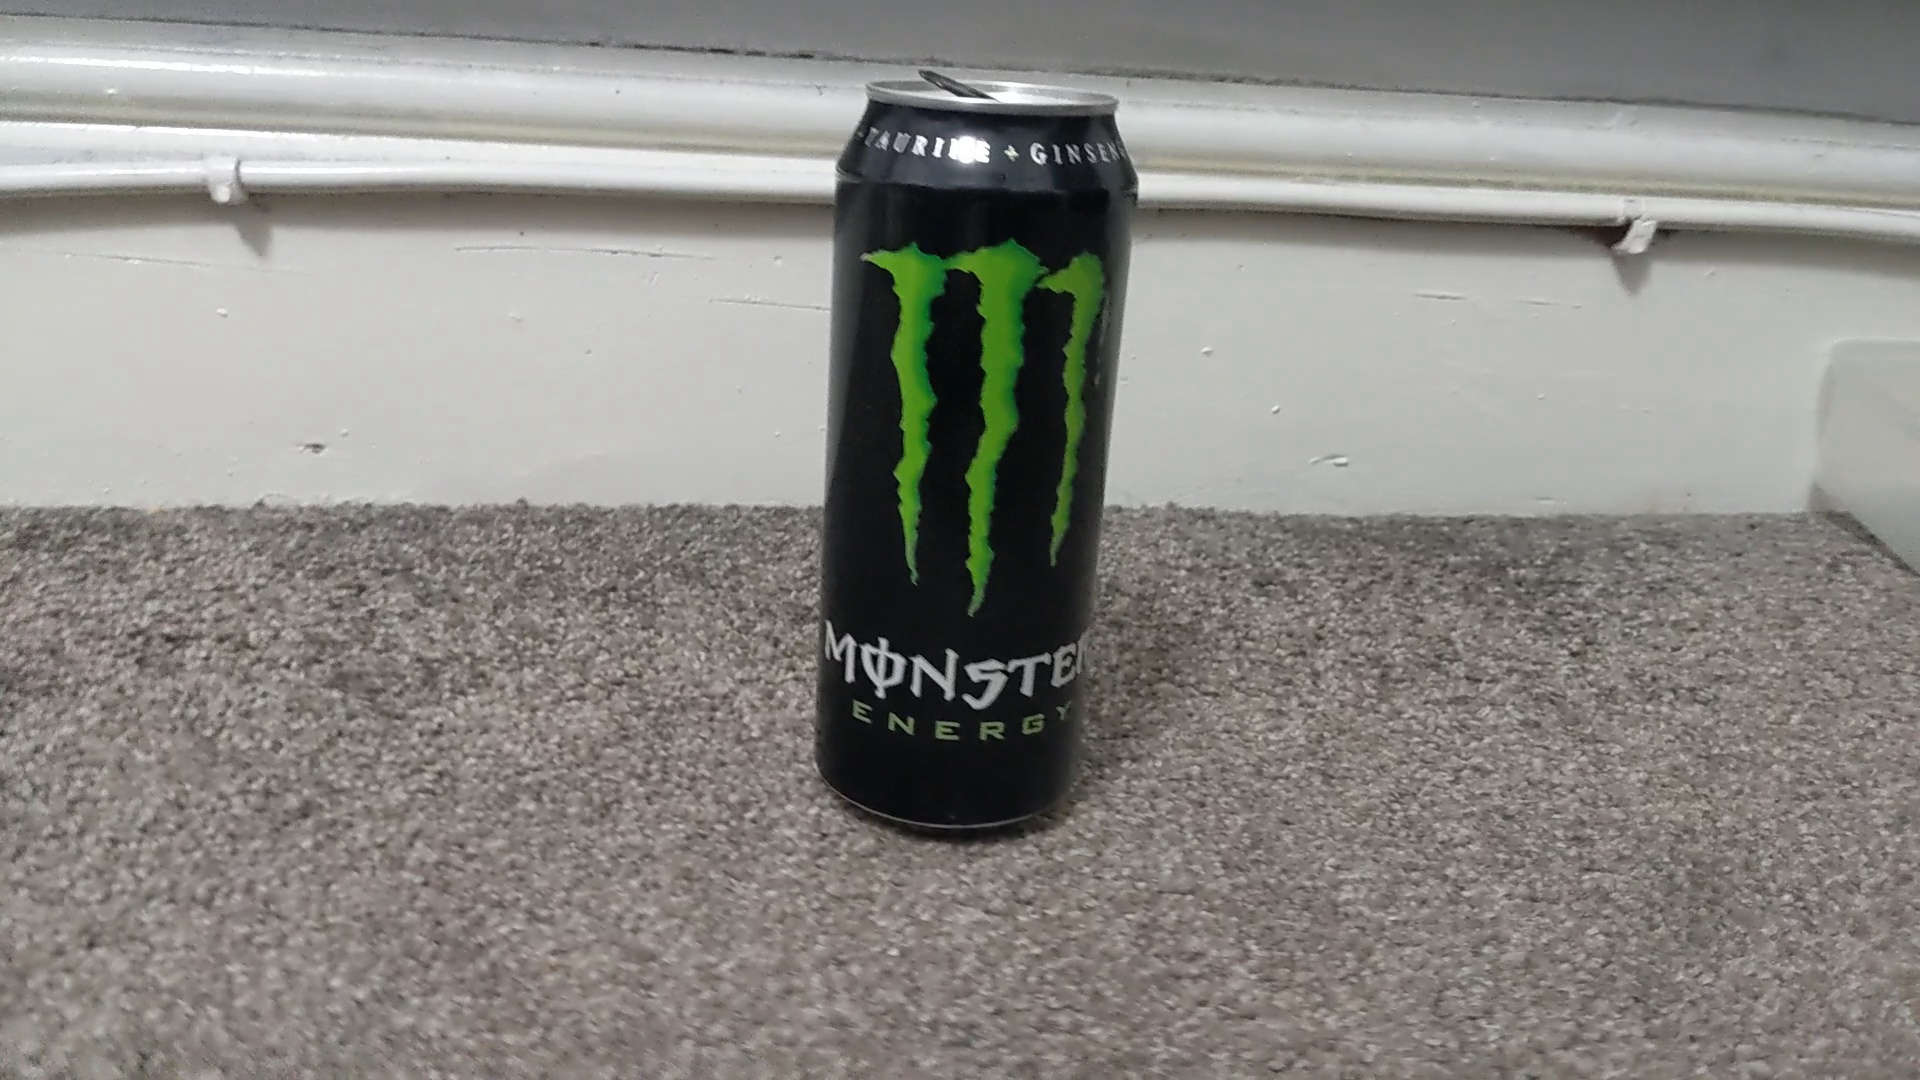monster-original: (812, 76, 1146, 831)
